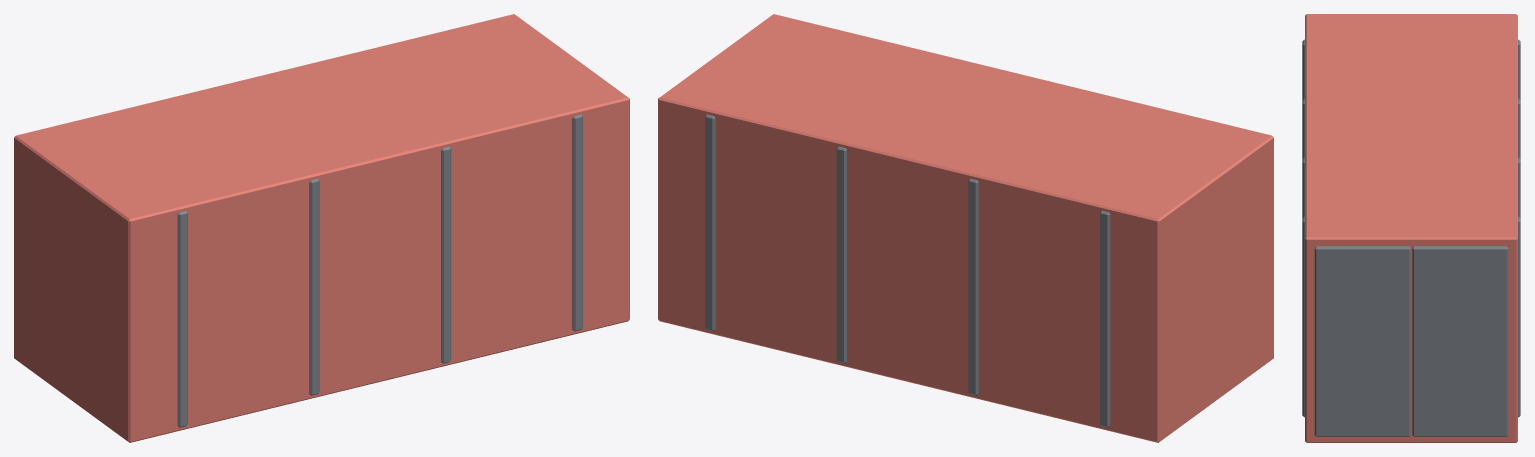
File: 工业_集装箱_01.fbx
The picture shows the model from 3 angles, left to right: view 1: azimuth 30°, elevation 25°; view 2: azimuth 150°, elevation 25°; view 3: azimuth 270°, elevation 25°; orthographic projection. The views are drawn at different scales.
Visible parts, largest first — view 1: 箱体, 波纹; view 2: 箱体, 波纹; view 3: 箱体, 箱门, 波纹.
Part boxes in pixels (x1=…): 箱体: x1=14, y1=14, x2=629, y2=442; 波纹: x1=177, y1=114, x2=582, y2=427; 箱体: x1=658, y1=14, x2=1273, y2=442; 波纹: x1=705, y1=114, x2=1110, y2=427; 箱体: x1=1305, y1=14, x2=1517, y2=442; 箱门: x1=1314, y1=246, x2=1508, y2=436; 波纹: x1=1302, y1=39, x2=1520, y2=417.
Bounding box in the file's own units: 615 × 260 × 250.
